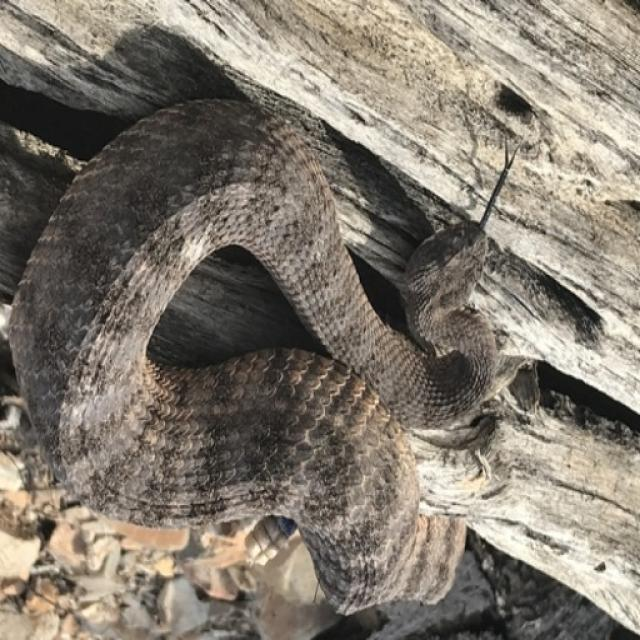snake: (23, 107, 532, 615)
